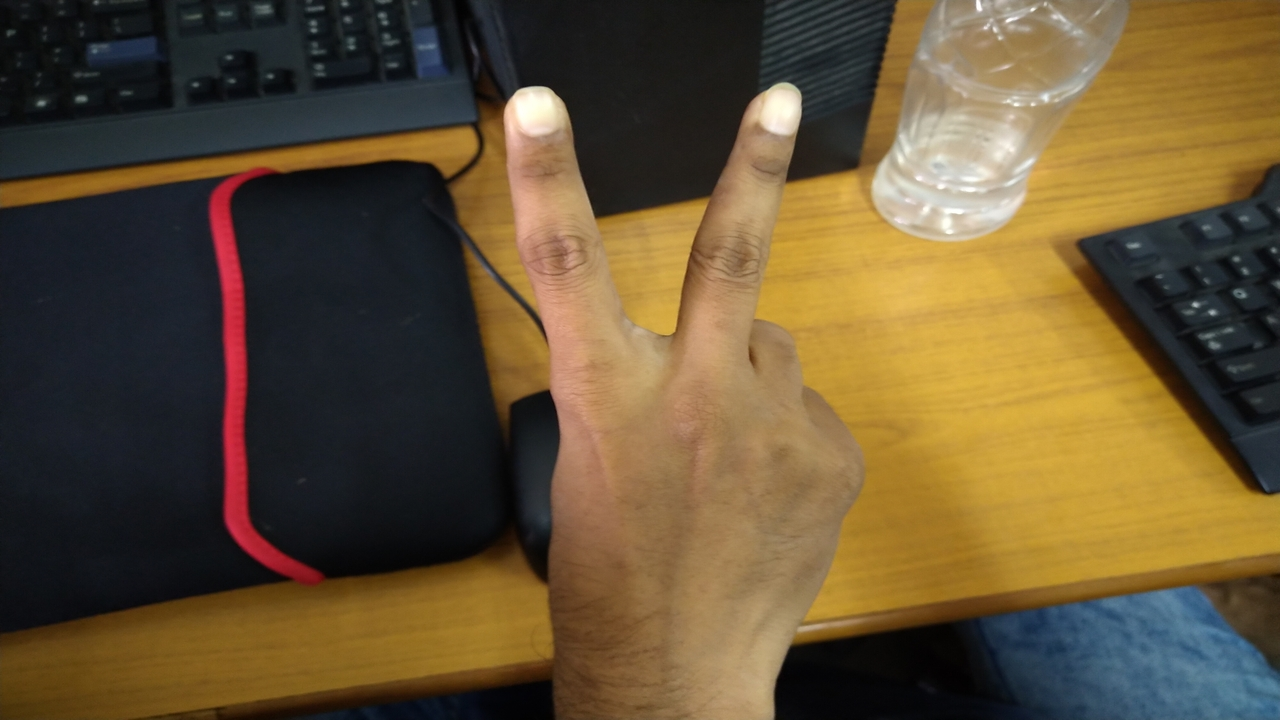fingertip: (496, 82, 570, 148), (740, 78, 812, 140)
